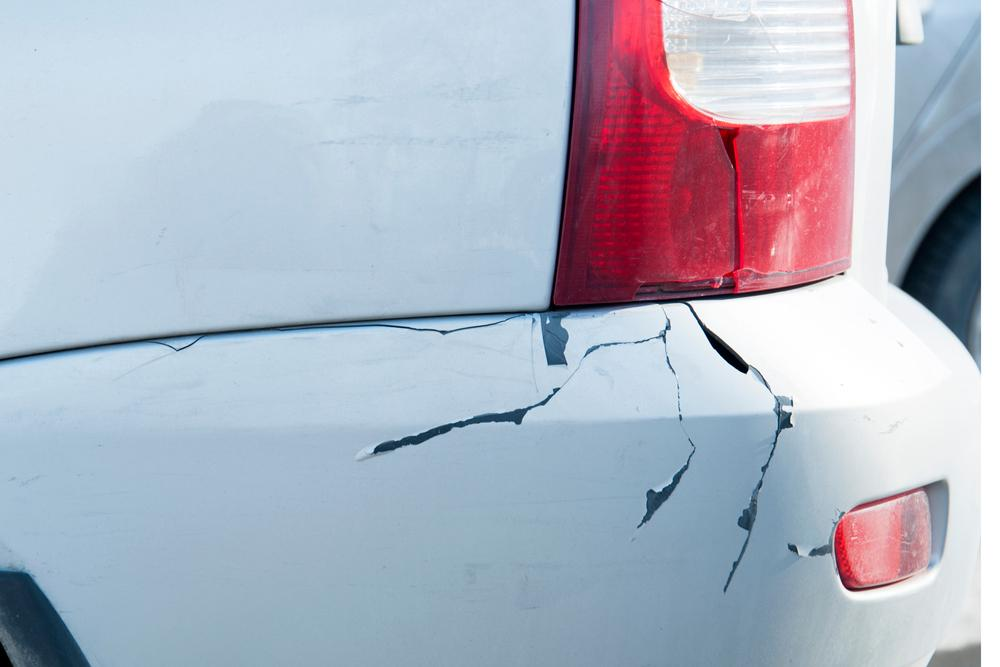crack: (363, 305, 697, 530), (676, 301, 782, 595), (270, 313, 527, 336), (120, 334, 208, 378)
lamp broken: (548, 0, 858, 311)
